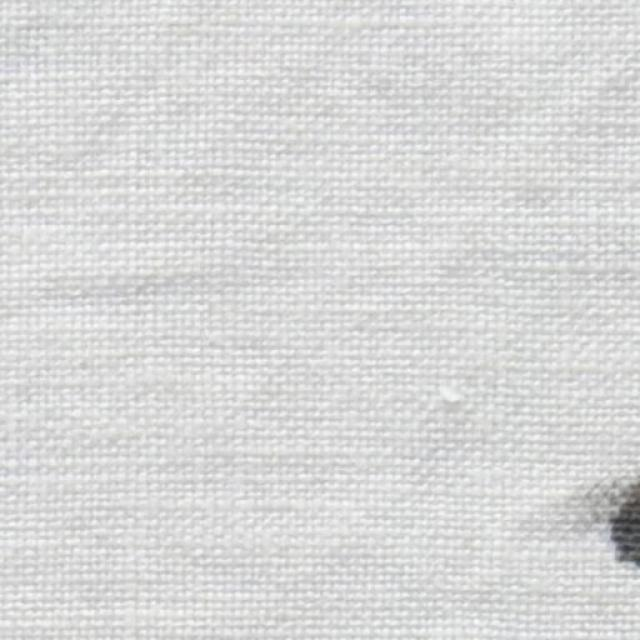Stain: (610, 482, 640, 567)
